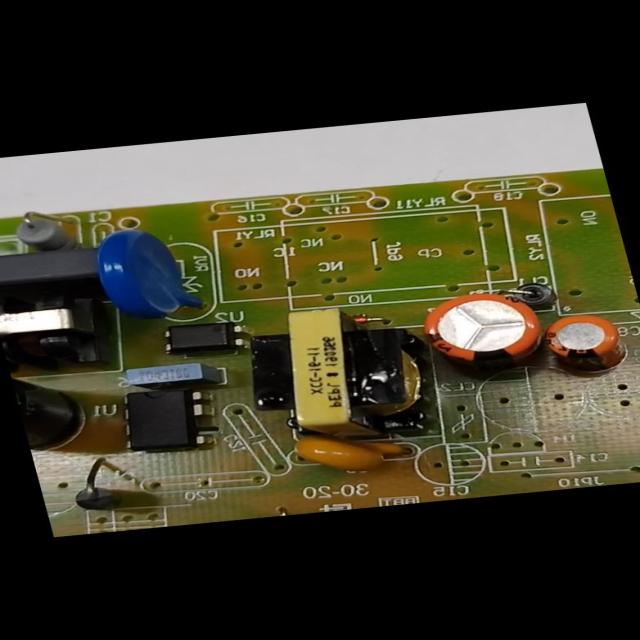Cap1: (417, 290, 545, 371)
Cap2: (541, 312, 630, 373)
Cap3: (8, 362, 84, 451)
MOSFET: (113, 386, 213, 453)
Mov: (91, 226, 199, 318)
Resistor: (11, 208, 78, 250)
Transformer: (238, 303, 432, 443), (0, 293, 80, 362)
